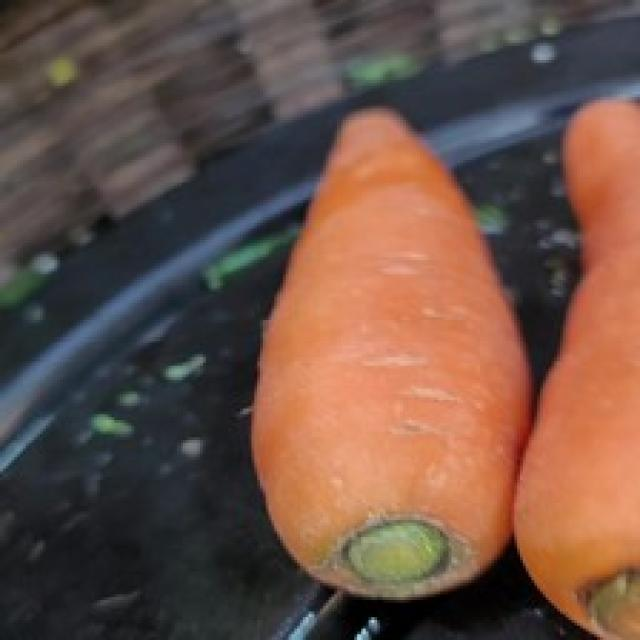Fresh_Carrot: (286, 99, 487, 471), (518, 113, 640, 520)
